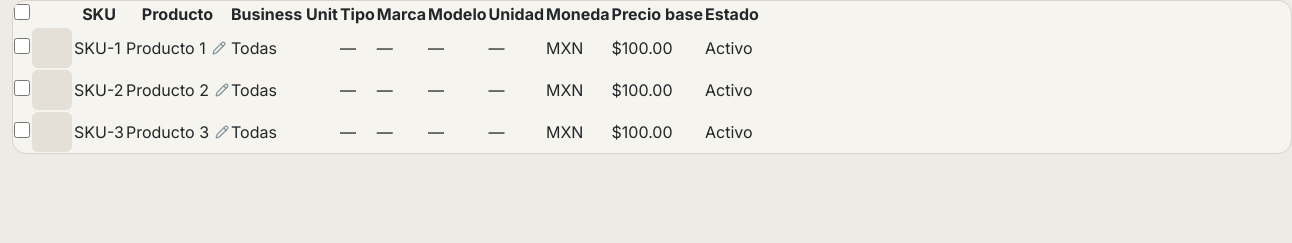
Scenario: CatalogSelectionTable (ajuste de cierre — selección múltiple / eliminar del catálogo) › seleccionar uno muestra la barra de acción con el conteo correcto
What coordinates should you click on to do the following:
click the checkbox named "Seleccionar SKU-1"
I would click on:
 (22, 46)
Its box is [14, 38, 30, 54].
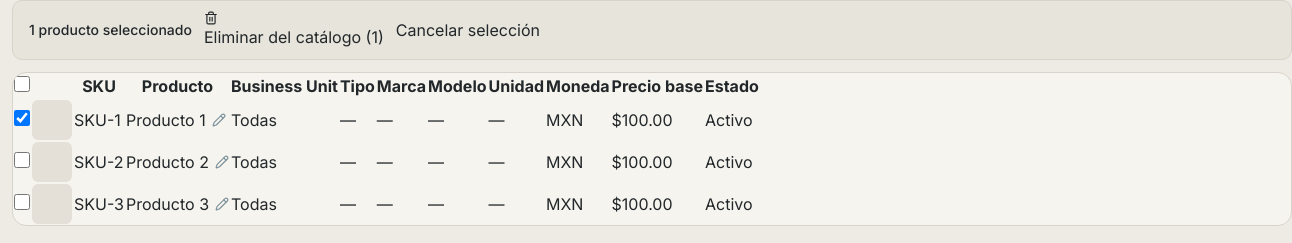
Expected: the text "1 producto seleccionado" is shown, [29, 20, 192, 40]
Expected: the button "Eliminar del catálogo (1)" is shown, [204, 11, 384, 49]
